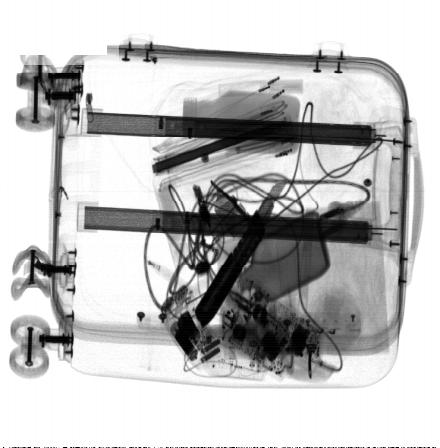Knife: (195, 179, 288, 331)
